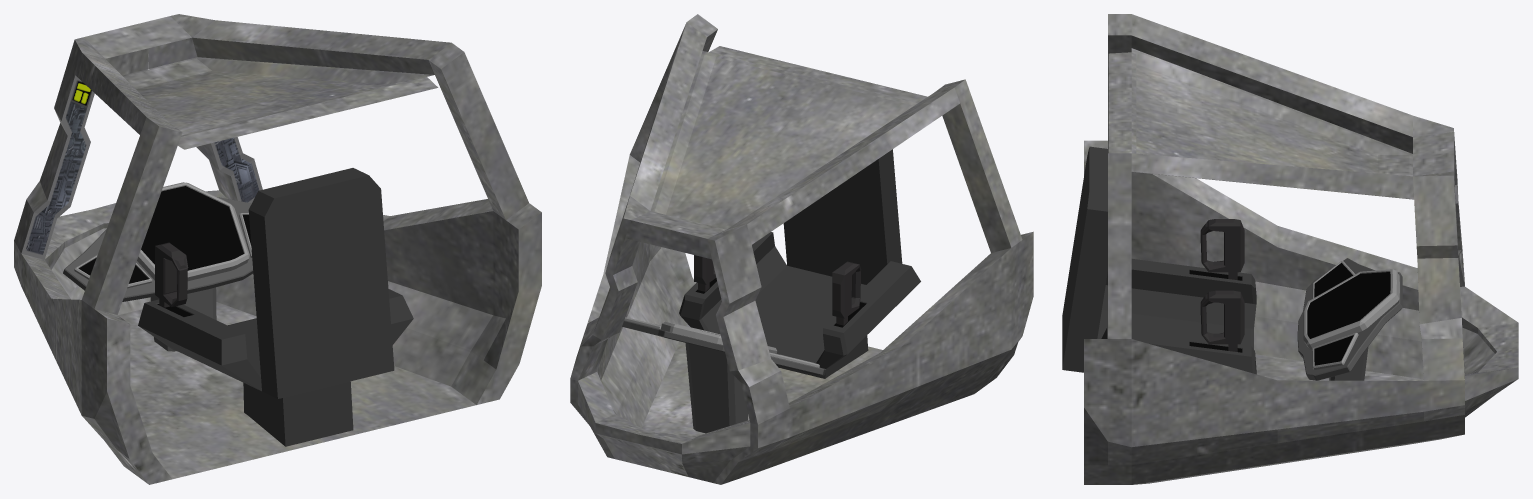
The model's file is コクピット.fbx.
3 views of the same model, side by side, from view 1: azimuth 30°, elevation 25°; view 2: azimuth 150°, elevation 25°; view 3: azimuth 270°, elevation 25° (orthographic). The views are drawn at different scales.
Visible parts, largest first — view 1: 立方体.003; view 2: 立方体.003; view 3: 立方体.003.
Boxes of the visible parts, x1,y1,x2,y2 form: 立方体.003: [14, 14, 541, 484]; 立方体.003: [570, 14, 1033, 484]; 立方体.003: [1062, 14, 1518, 484].
Size of the model in its own units: 887 by 688 by 862.
